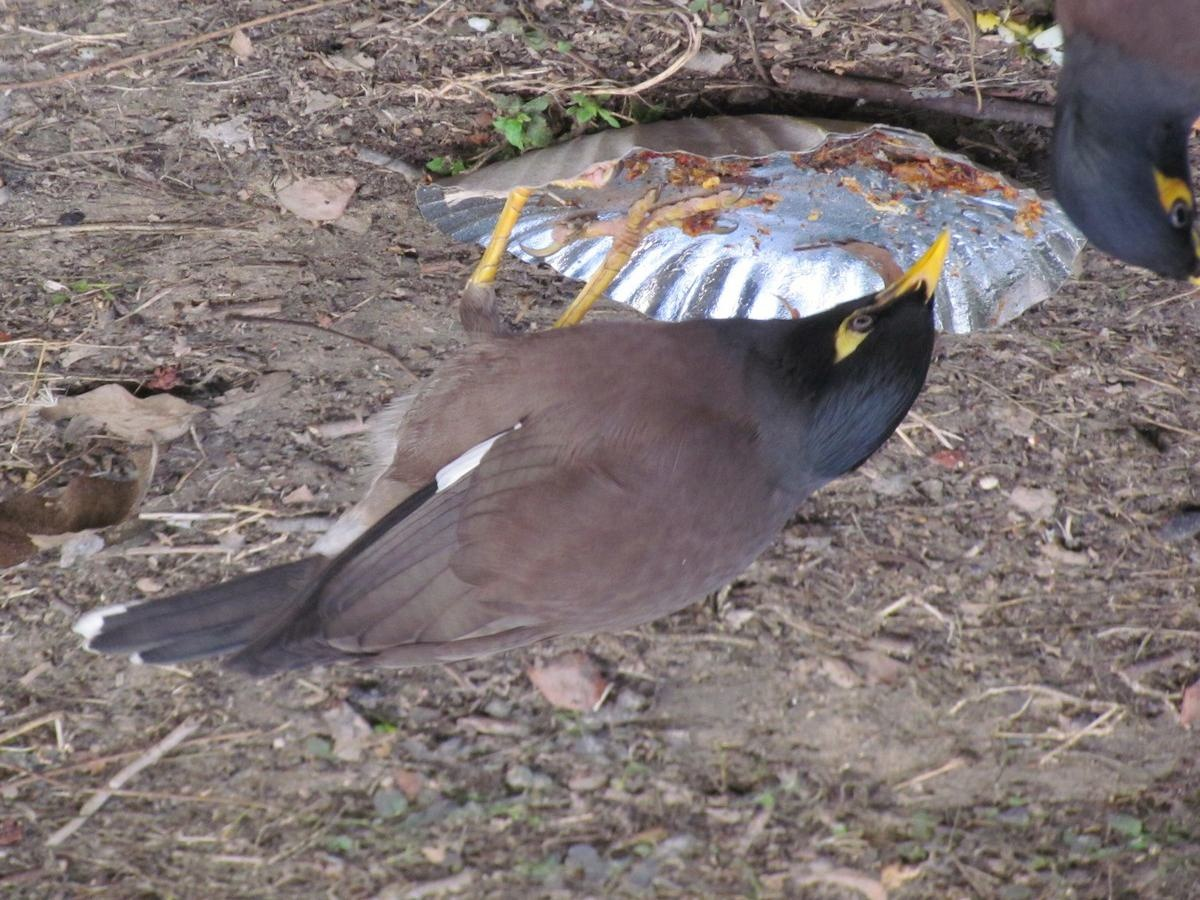myna: (227, 197, 973, 705)
